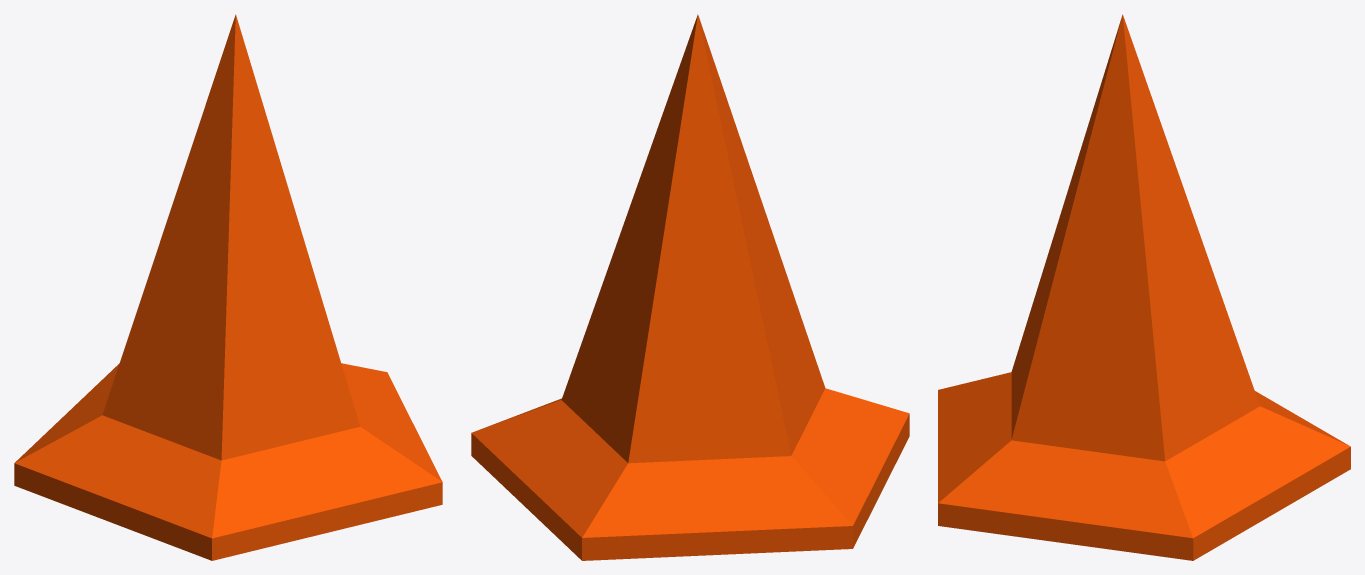
3 renders of one model, left to right at view 1: azimuth 30°, elevation 25°; view 2: azimuth 150°, elevation 25°; view 3: azimuth 270°, elevation 25°, orthographic. The views are drawn at different scales.
Visible parts, largest first — view 1: Cone; view 2: Cone; view 3: Cone.
Part boxes in pixels (bbox=[...]): Cone: bbox=[14, 14, 442, 560]; Cone: bbox=[471, 14, 909, 560]; Cone: bbox=[938, 14, 1350, 560].
Size of the model in its own units: 3.52 by 4.07 by 3.35.
